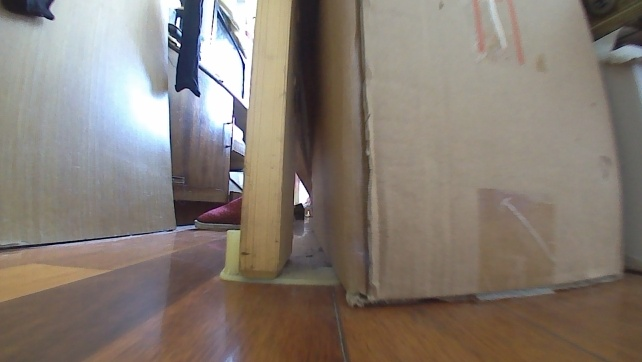shoe: (191, 195, 242, 234)
